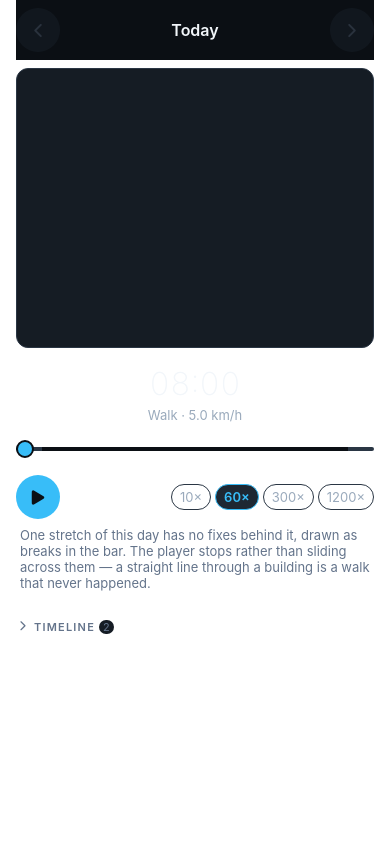
Test: the player › says it has no signal for a stretch with no fixes behind it
Expected: the text "One stretch of" is shown, [20,527,108,543]
Click the button named "Play" at (38, 497), box [16,475,60,519]
Wait 70000 ms
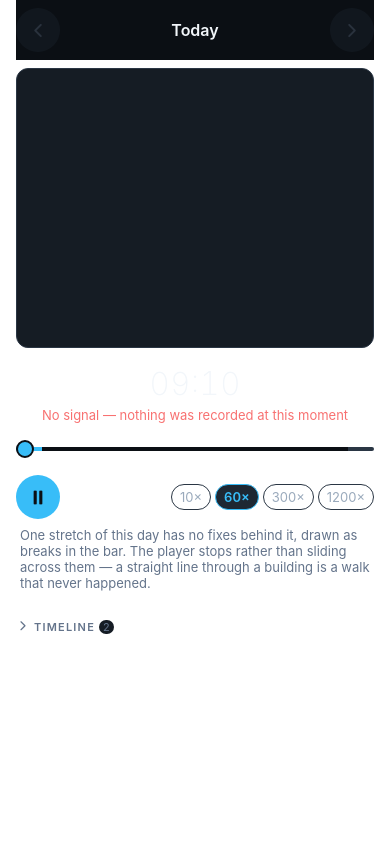
Result: the text "No signal — nothing was recorded at this moment" is shown at [42,407,348,423]
